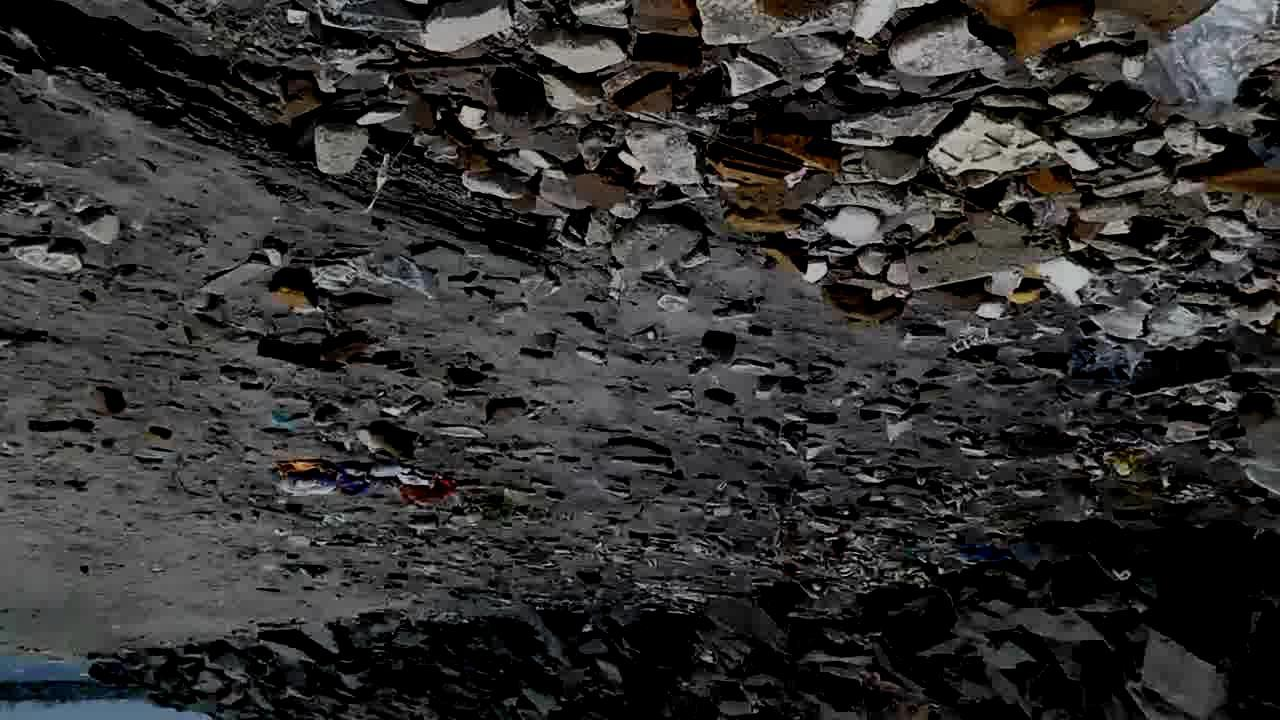large collection of objects: (688, 474, 1016, 602)
obj: (282, 1, 1279, 325), (0, 1, 551, 275), (1086, 193, 1279, 396), (668, 360, 837, 465), (1035, 430, 1221, 508), (246, 332, 420, 378), (271, 462, 458, 504), (310, 248, 443, 298), (274, 419, 415, 466), (448, 368, 524, 430), (1013, 2, 1096, 58), (758, 122, 842, 168), (1205, 150, 1279, 202), (562, 158, 630, 204), (15, 236, 88, 277), (608, 436, 680, 471), (860, 405, 924, 443), (456, 493, 525, 527), (267, 272, 319, 310), (72, 206, 118, 242), (949, 542, 1008, 568)
sand/background: (0, 514, 1279, 719)
